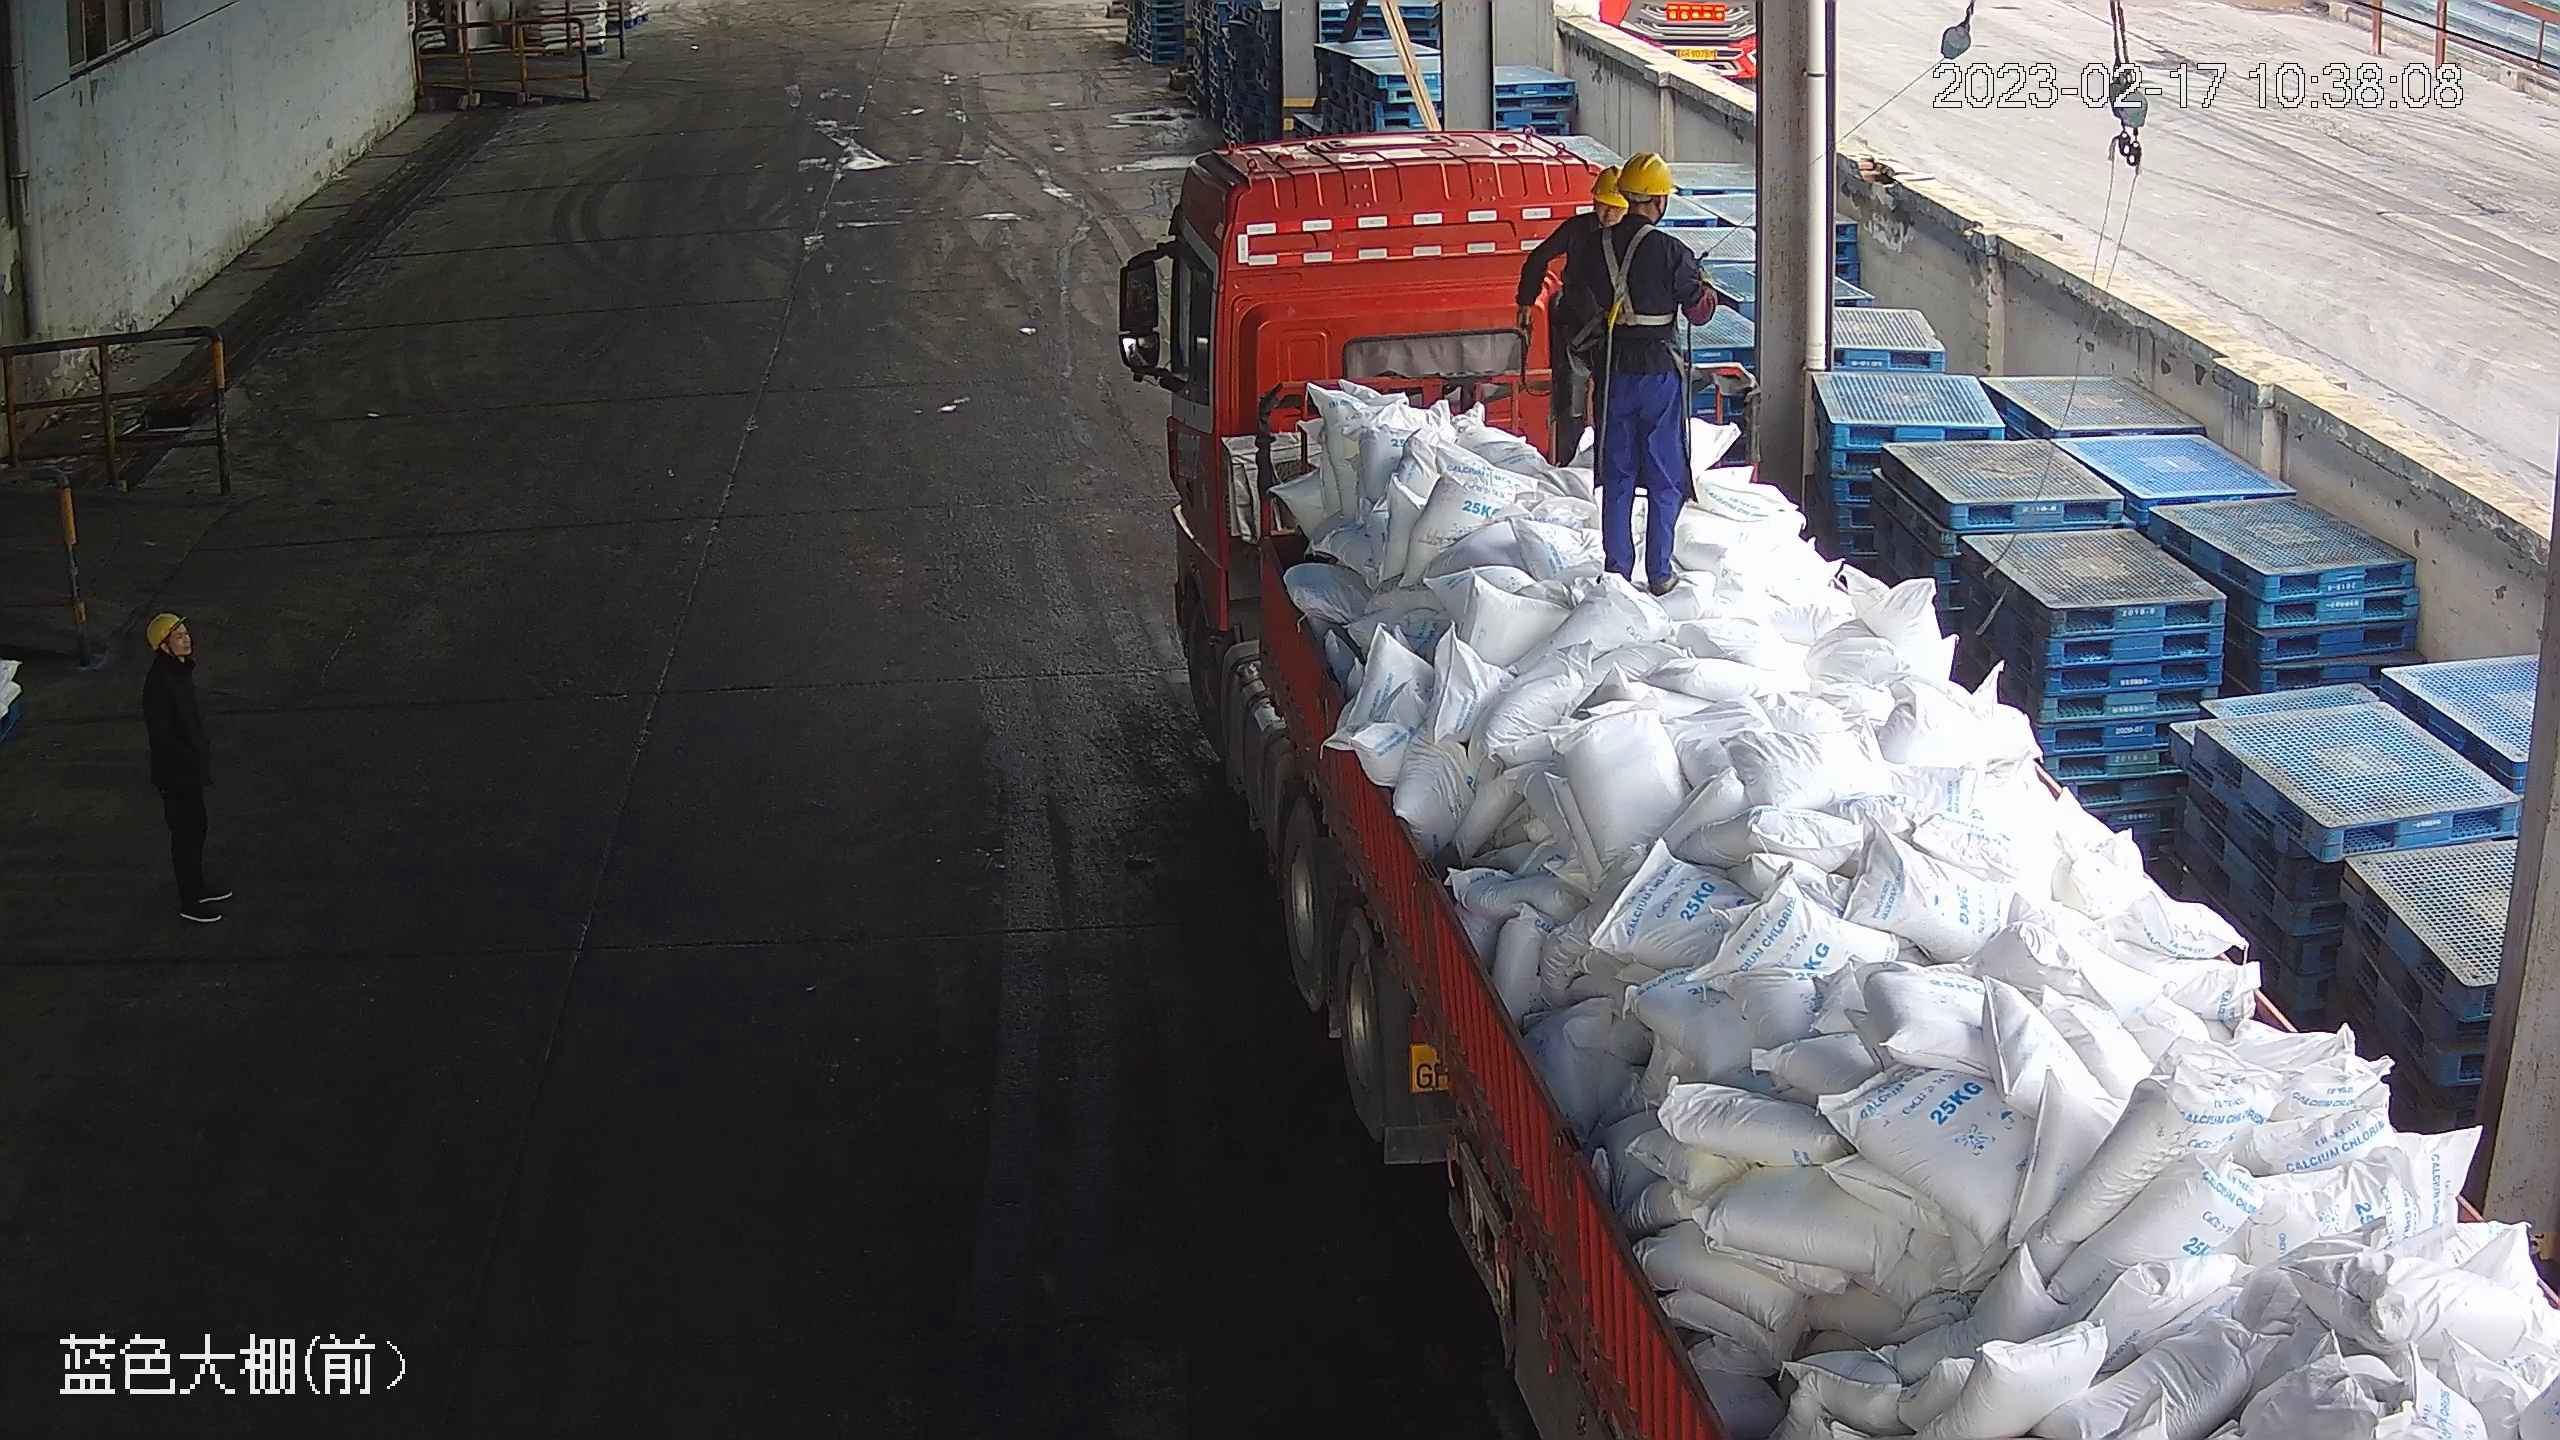belt: (1594, 226, 1683, 336)
head: (1593, 150, 1701, 283), (1547, 160, 1627, 244), (140, 608, 205, 710)
helmet: (1612, 149, 1675, 201), (140, 613, 195, 650), (1590, 166, 1634, 209)
people: (1574, 150, 1720, 598), (1511, 164, 1632, 469), (137, 611, 244, 925)
truck: (1112, 122, 2560, 1440)
